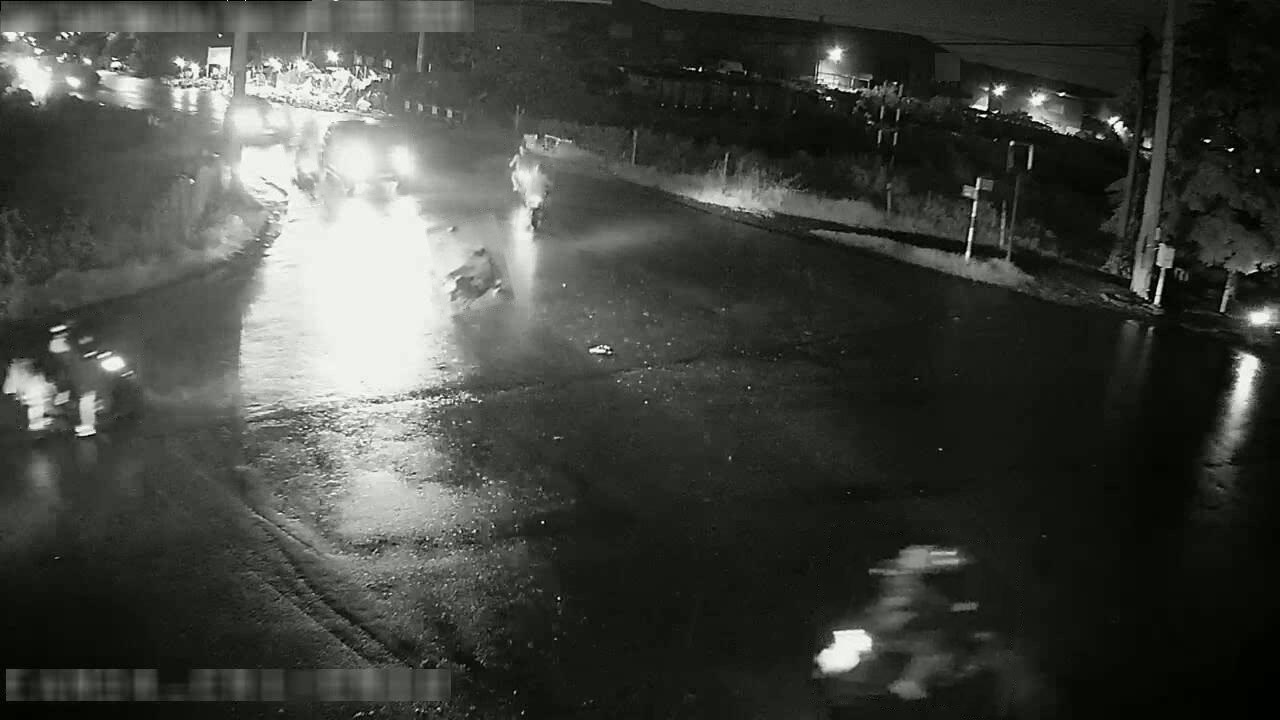Car: (320, 120, 415, 195)
Motorcyclist: (813, 543, 1026, 719), (3, 322, 142, 437), (431, 217, 513, 314), (519, 162, 550, 232), (291, 139, 321, 201), (508, 141, 532, 193)
